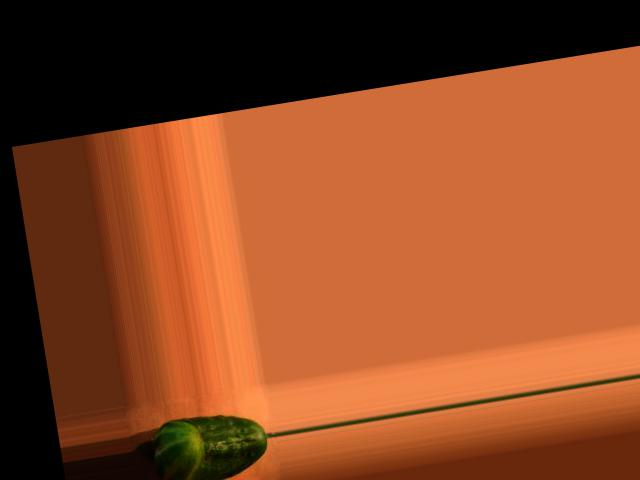cucumber: (149, 405, 272, 480)
